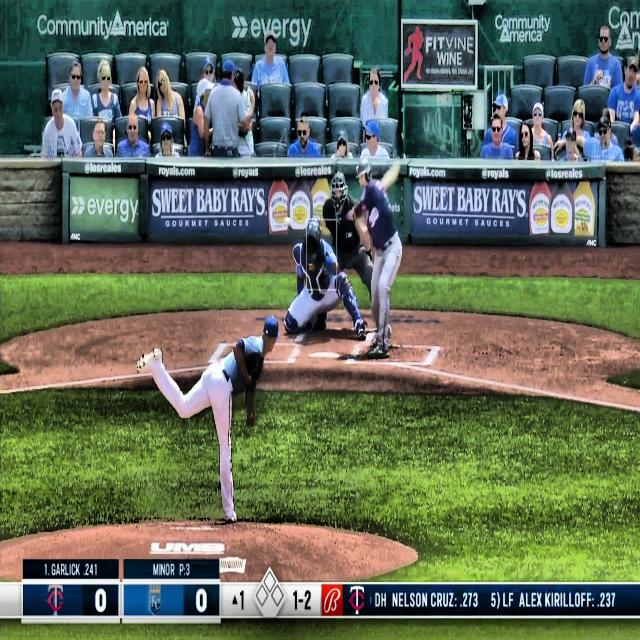baseball: (284, 216, 292, 227)
